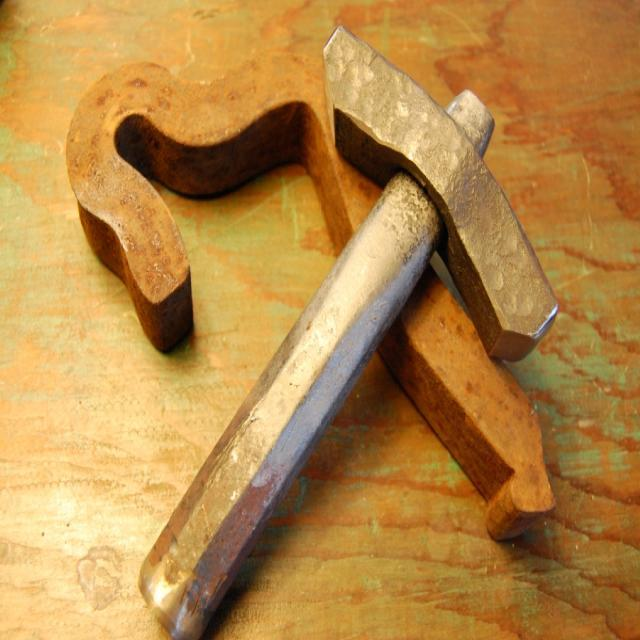hammer: (133, 23, 568, 640)
